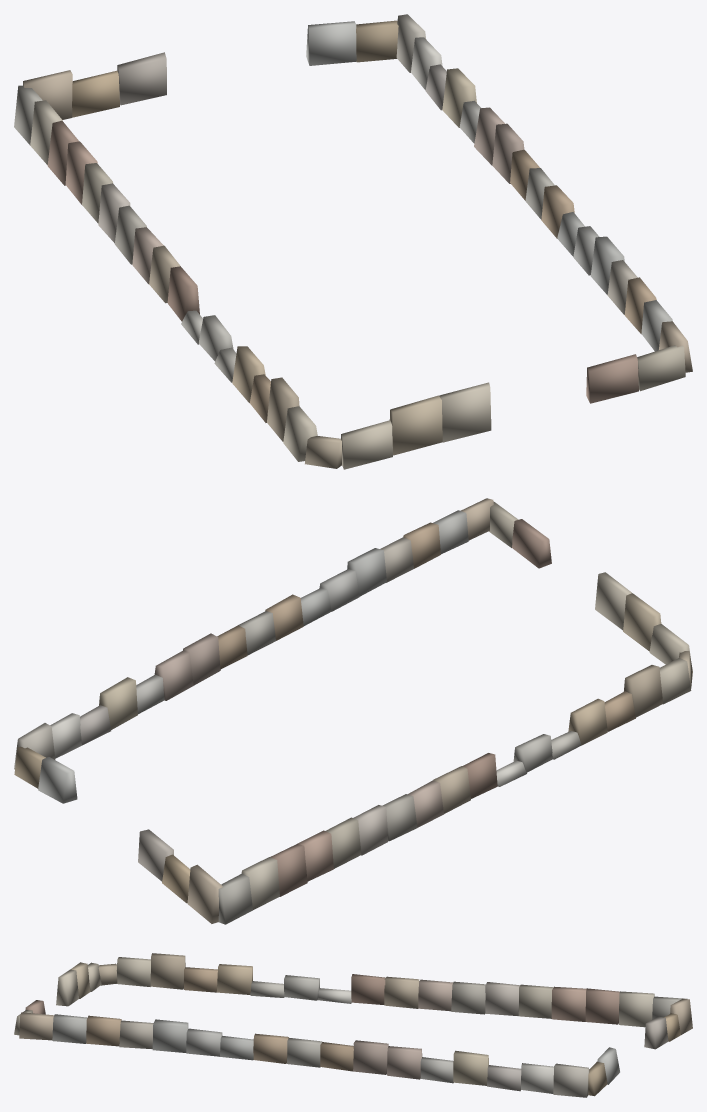
Rendered from farm_7_-5_far.glb.
The picture shows the model from 3 angles, top to bottom: view 1: azimuth 30°, elevation 25°; view 2: azimuth 150°, elevation 25°; view 3: azimuth 270°, elevation 25°; orthographic projection. The views are drawn at different scales.
Parts seen in each view (by area): view 1: geometry_0; view 2: geometry_0; view 3: geometry_0.
Part boxes in pixels (x1,y1,x2,y2): geometry_0: (14,14,692,469); geometry_0: (14,498,692,924); geometry_0: (14,953,692,1097).
Size of the model in its own units: 16.9 by 3.78 by 31.88.
